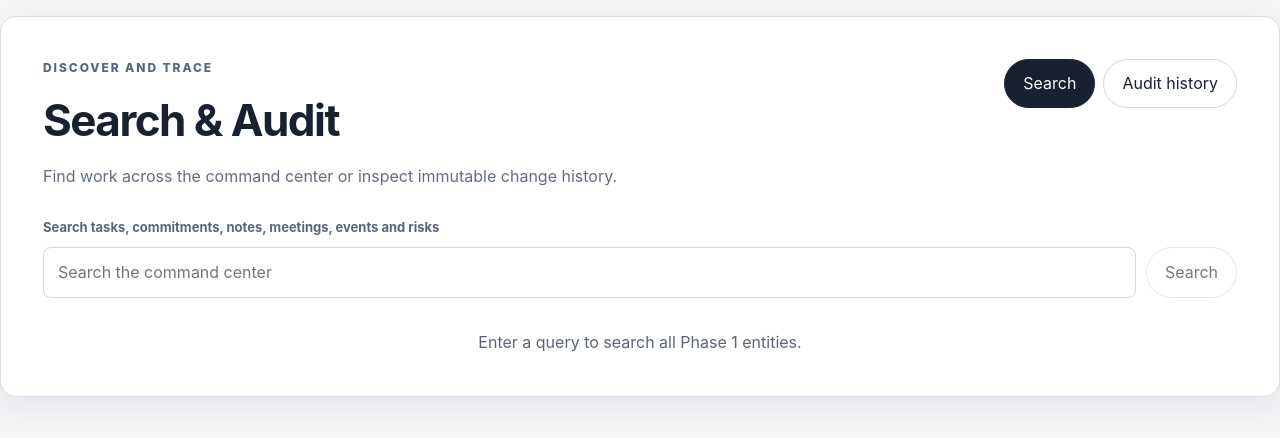
Test case: SearchAuditPanel › classifies a network failure on the audit tab as a readable offline message, not a raw TypeError
Click the tab "Audit history". click: point(1170, 83)
box: [1103,59,1237,108]
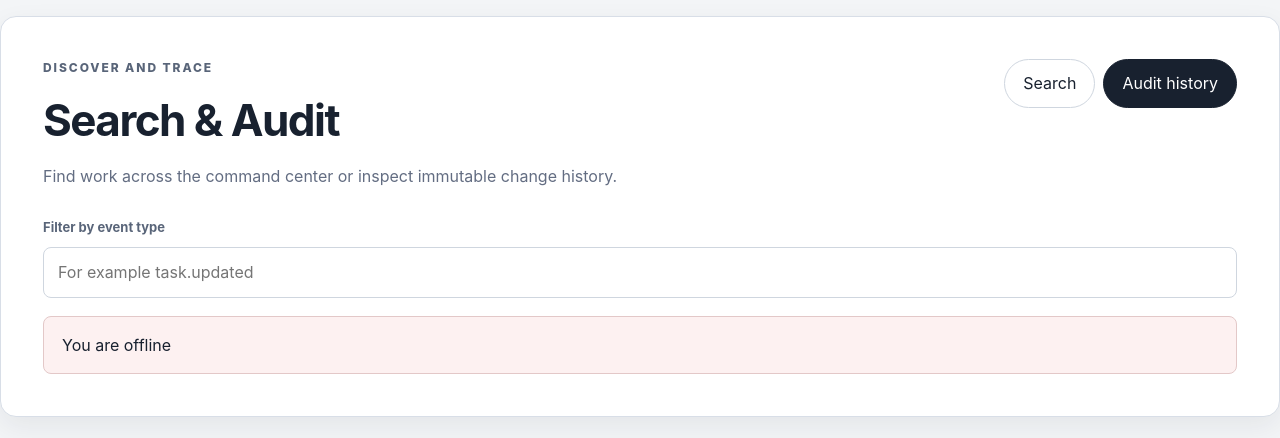
Check: the message reads "You are offline", box [62,334,171,354]
